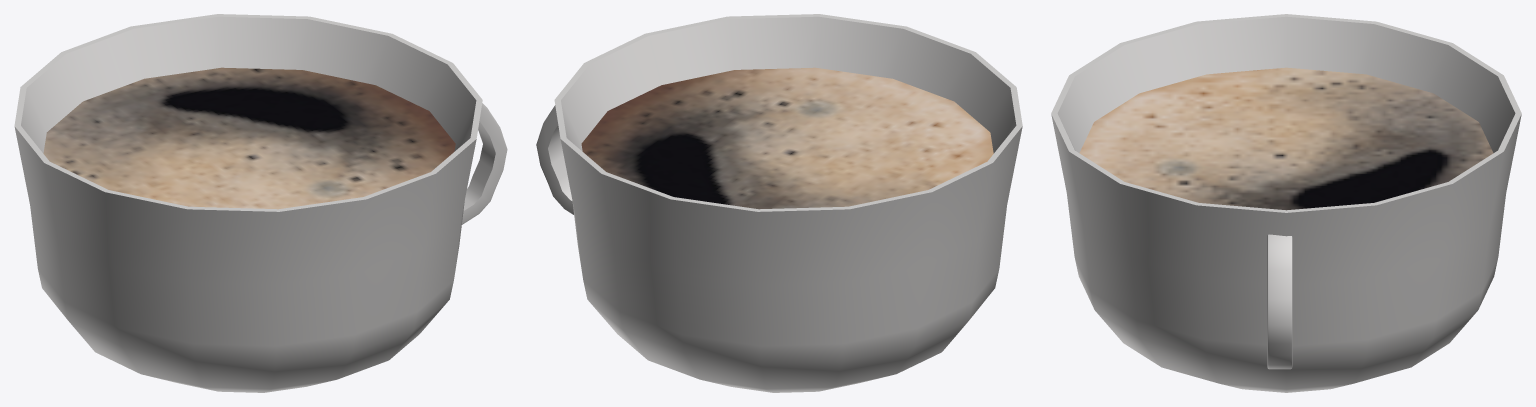
File: Teacup.FBX
The picture shows the model from 3 angles, left to right: view 1: azimuth 30°, elevation 25°; view 2: azimuth 150°, elevation 25°; view 3: azimuth 270°, elevation 25°; orthographic projection.
Parts seen in each view (by area): view 1: Teacup, Coffee; view 2: Teacup, Coffee; view 3: Teacup, Coffee.
Part boxes in pixels (x1,y1,x2,y2): Teacup: (14,14,507,392); Coffee: (43,67,455,209); Teacup: (536,14,1022,392); Coffee: (581,67,993,209); Teacup: (1051,14,1521,392); Coffee: (1079,67,1493,210).
Bounding box in the file's own units: 10.15 × 4.94 × 9.13.
